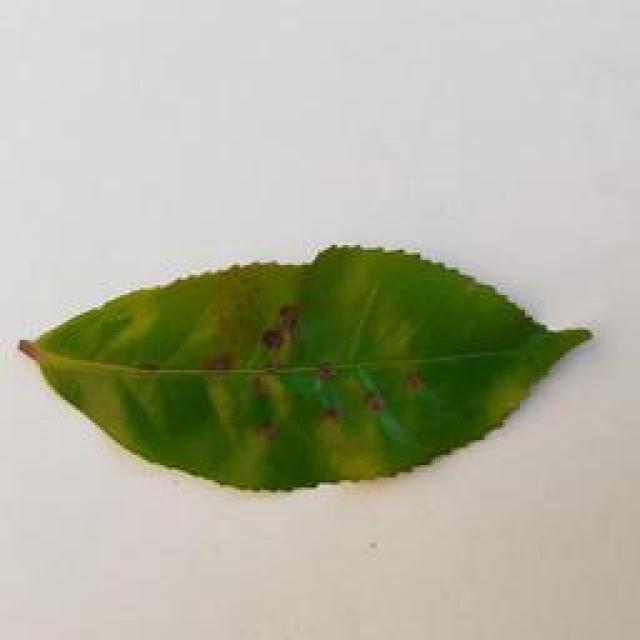Helopeltis: (14, 239, 605, 500)
